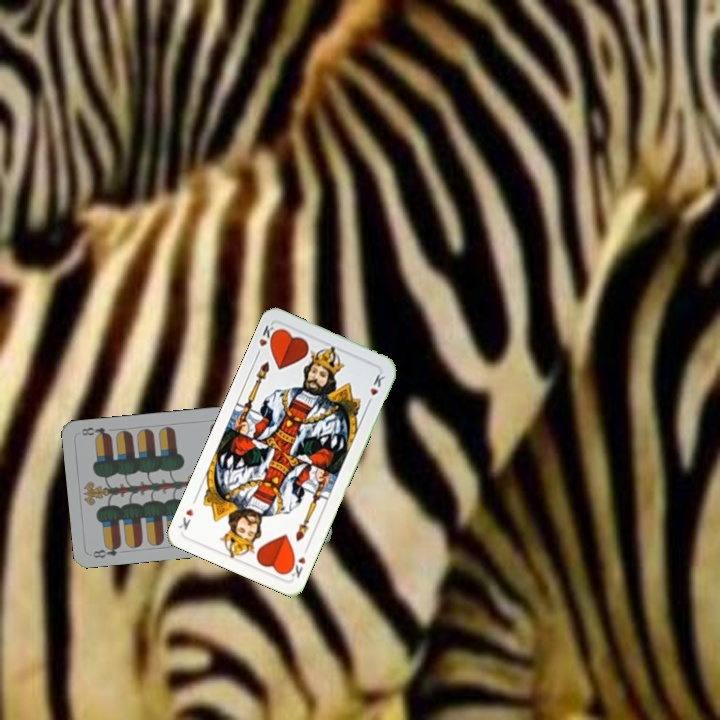E8: (89, 540, 124, 561)
HK: (252, 321, 281, 359), (283, 542, 311, 581)
